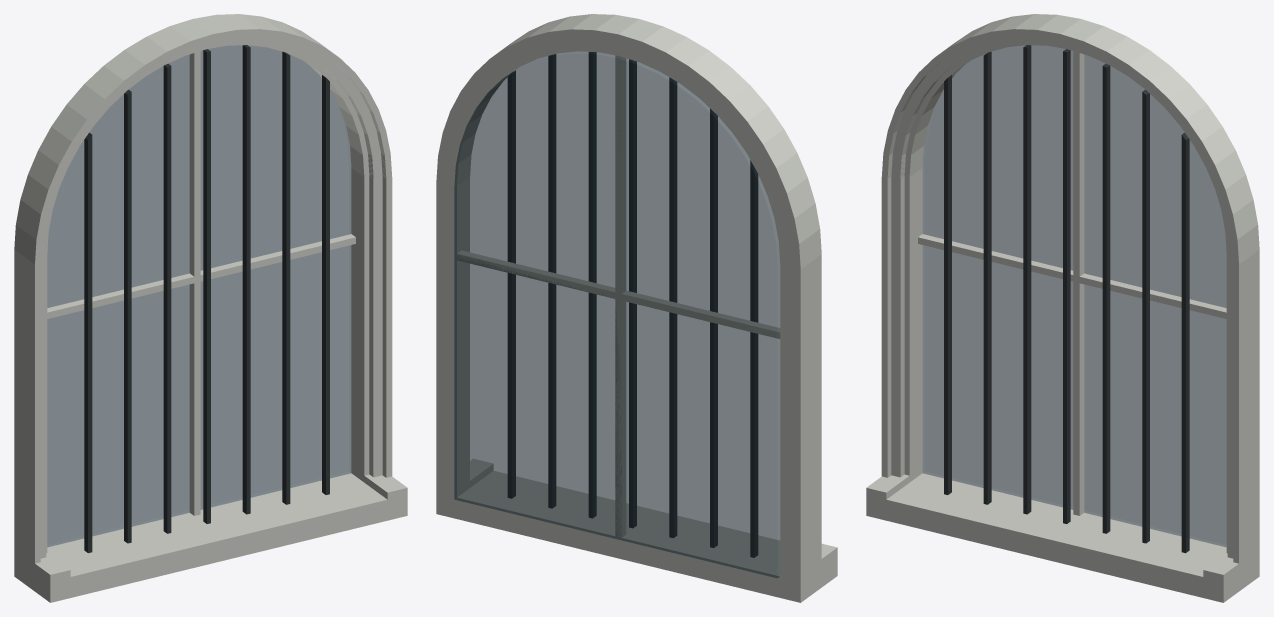
Rendered from clasico_arch_con_reja.glb.
The picture shows the model from 3 angles, left to right: view 1: azimuth 30°, elevation 25°; view 2: azimuth 150°, elevation 25°; view 3: azimuth 330°, elevation 25°; orthographic projection.
Visible parts, largest first — view 1: window_glass#0001, window_grille#0001, window_sill#0001, window_reveal#0001, window_profile#0020, window_mullion#0001, window_profile#0009, window_profile#0010, window_profile#0001, window_profile#0017, window_profile#0019, window_profile#0011 (+6 smaller); view 2: window_glass#0001, window_reveal#0001, window_grille#0001, window_mullion#0001, window_profile#0020, window_sill#0001, window_profile#0001; view 3: window_glass#0001, window_grille#0001, window_sill#0001, window_reveal#0001, window_profile#0020, window_mullion#0001, window_profile#0009, window_profile#0010, window_profile#0001, window_profile#0017, window_profile#0019, window_profile#0011 (+6 smaller).
Part boxes in pixels (bbox=[...]): window_glass#0001: bbox=[47, 45, 351, 546]; window_grille#0001: bbox=[84, 45, 329, 553]; window_sill#0001: bbox=[22, 474, 407, 602]; window_reveal#0001: bbox=[14, 14, 363, 584]; window_profile#0020: bbox=[24, 21, 392, 590]; window_mullion#0001: bbox=[47, 51, 355, 515]; window_profile#0009: bbox=[44, 40, 375, 557]; window_profile#0010: bbox=[41, 37, 377, 558]; window_profile#0001: bbox=[46, 43, 365, 553]; window_profile#0017: bbox=[39, 33, 387, 562]; window_profile#0019: bbox=[36, 30, 390, 563]; window_profile#0011: bbox=[40, 35, 380, 558]; window_glass#0001: bbox=[454, 51, 780, 578]; window_reveal#0001: bbox=[436, 20, 812, 602]; window_grille#0001: bbox=[508, 52, 757, 557]; window_mullion#0001: bbox=[457, 55, 780, 537]; window_profile#0020: bbox=[505, 14, 821, 594]; window_sill#0001: bbox=[465, 459, 837, 596]; window_profile#0001: bbox=[467, 82, 779, 564]; window_glass#0001: bbox=[922, 45, 1226, 546]; window_grille#0001: bbox=[944, 45, 1189, 553]; window_sill#0001: bbox=[866, 473, 1251, 602]; window_reveal#0001: bbox=[910, 14, 1259, 583]; window_profile#0020: bbox=[881, 21, 1249, 591]; window_mullion#0001: bbox=[918, 51, 1226, 515]; window_profile#0009: bbox=[898, 40, 1229, 557]; window_profile#0010: bbox=[896, 37, 1232, 558]; window_profile#0001: bbox=[908, 43, 1227, 553]; window_profile#0017: bbox=[886, 33, 1234, 562]; window_profile#0019: bbox=[883, 30, 1237, 563]; window_profile#0011: bbox=[893, 35, 1233, 558].
Bounding box in the file's own units: 1.6 × 2.2 × 0.3.
